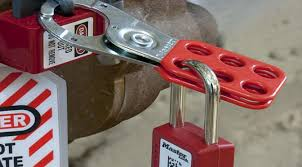hasp: (40, 2, 287, 111)
lock: (150, 60, 238, 167)
